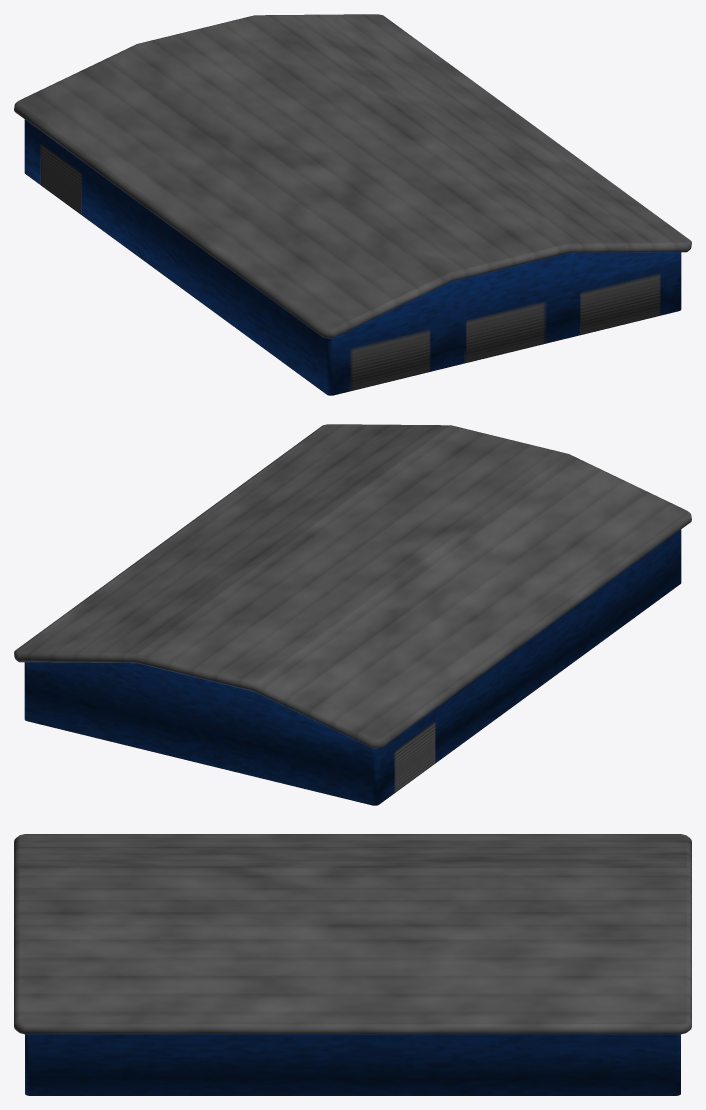
The model's file is Armazem.fbx.
3 renders of one model, top to bottom at view 1: azimuth 30°, elevation 25°; view 2: azimuth 150°, elevation 25°; view 3: azimuth 270°, elevation 25°, orthographic. The views are drawn at different scales.
Visible parts, largest first — view 1: Armazem; view 2: Armazem; view 3: Armazem.
Boxes of the visible parts, bbox=[...] form: Armazem: bbox=[14, 14, 691, 395]; Armazem: bbox=[14, 424, 691, 805]; Armazem: bbox=[14, 834, 691, 1095].
Size of the model in its own units: 8400 by 2100 by 12401.
